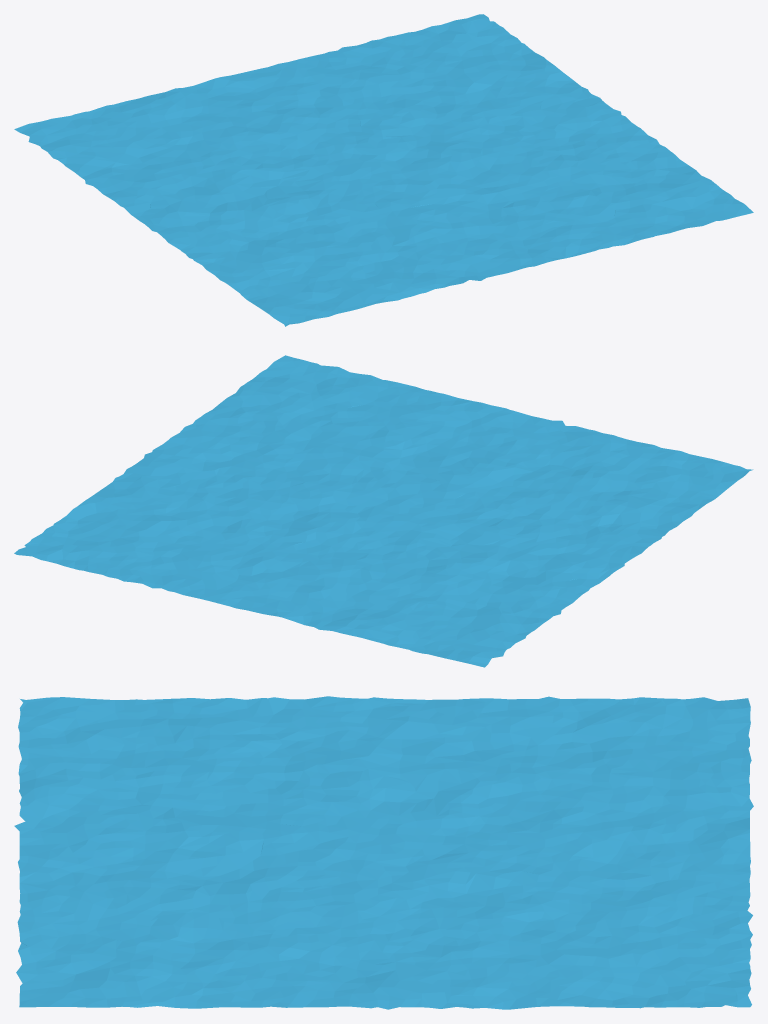
The model's file is WaterTerrainAnimation.fbx.
3 views of the same model, one above another, from view 1: azimuth 30°, elevation 25°; view 2: azimuth 150°, elevation 25°; view 3: azimuth 270°, elevation 25° (orthographic). The views are drawn at different scales.
Visible parts, largest first — view 1: WaterTerrainGeometry; view 2: WaterTerrainGeometry; view 3: WaterTerrainGeometry.
Boxes of the visible parts, x1,y1,x2,y2 form: WaterTerrainGeometry: (14,14,753,326); WaterTerrainGeometry: (14,355,753,667); WaterTerrainGeometry: (14,696,753,1009).
Size of the model in its own units: 30418 by 175 by 30394.
